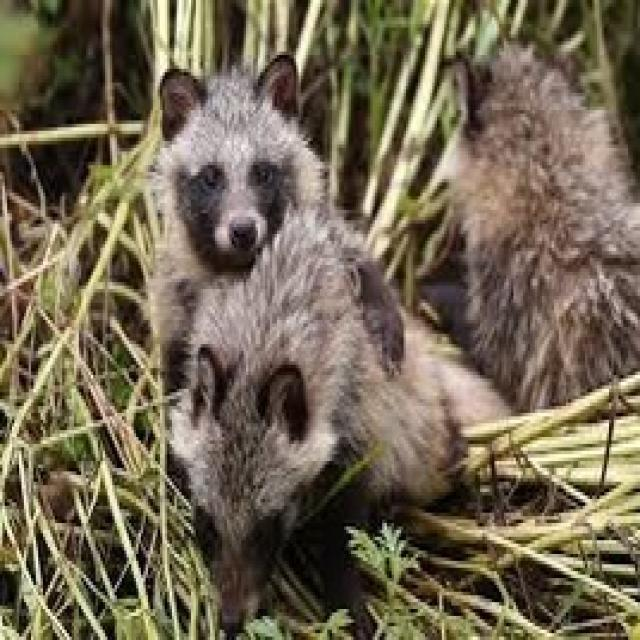racoon: (135, 53, 426, 598), (450, 29, 633, 419)
